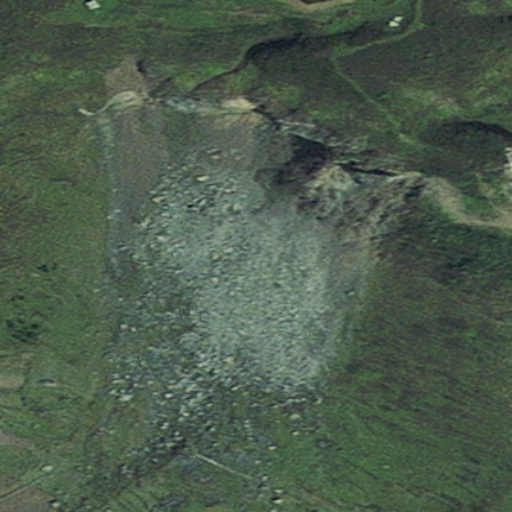landslide: (111, 72, 354, 394)
